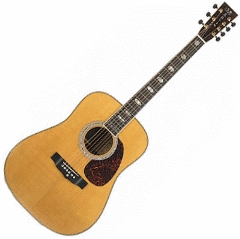guitar: (4, 2, 238, 236)
